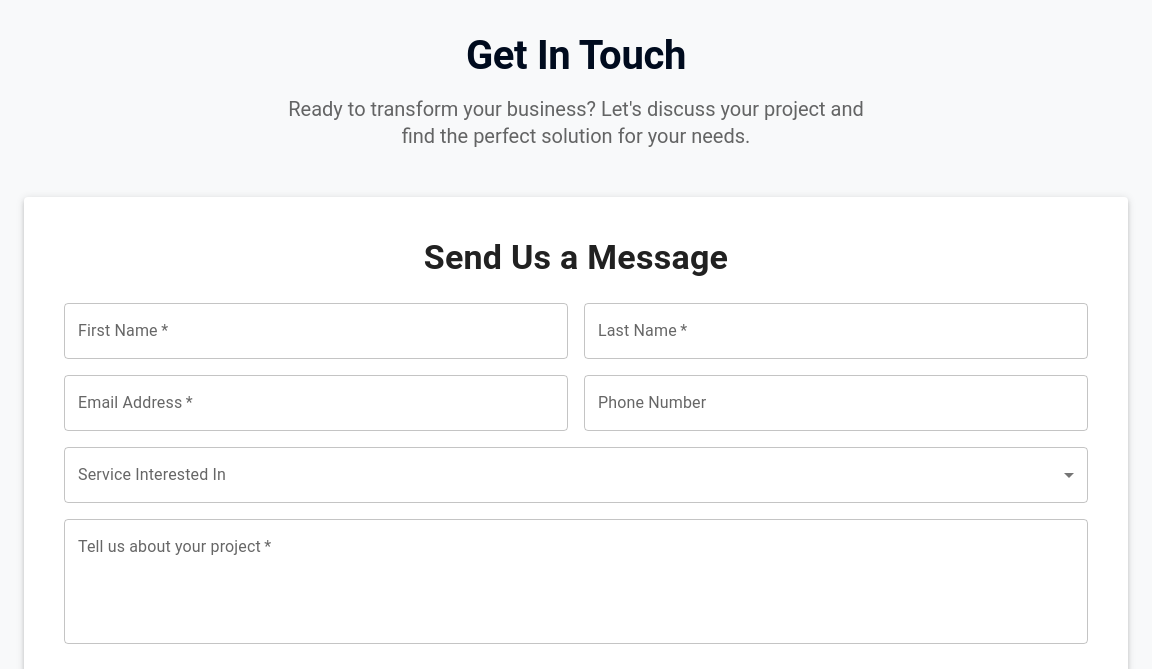
GetInTouchForm › submits successfully and shows success snackbar
This screenshot has width=1152, height=669.
In the field labelled "First Name *": (316, 331) x1=64 y1=303 x2=568 y2=359, type "John"
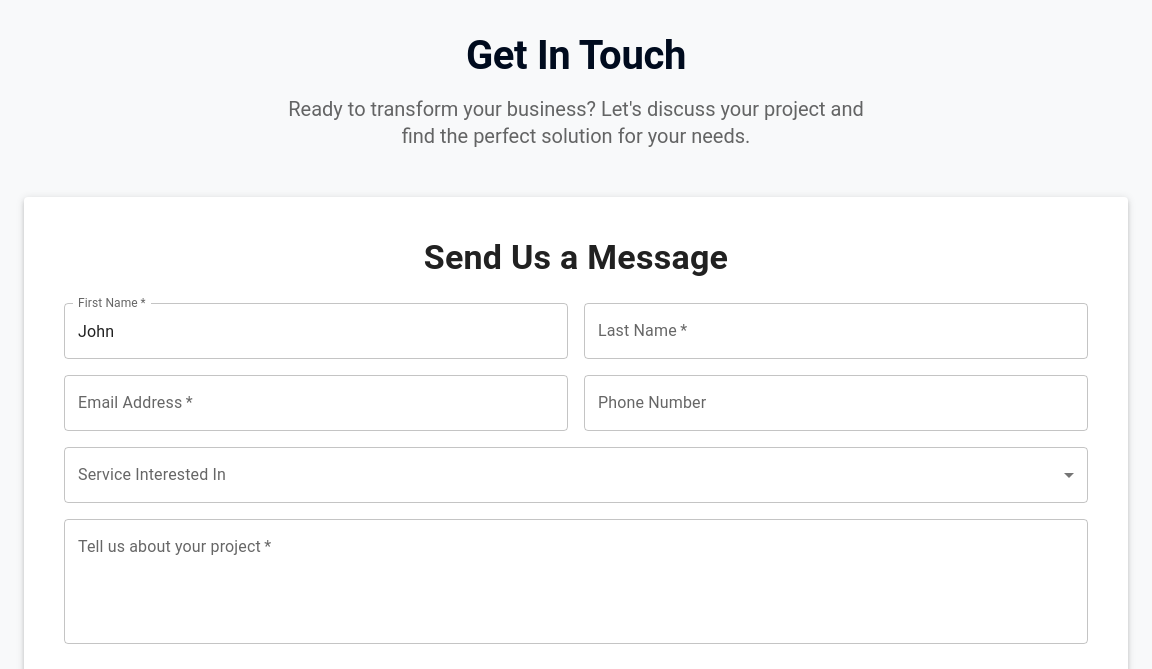
In the field labelled "Last Name *": (836, 331) x1=584 y1=303 x2=1088 y2=359, type "Doe"
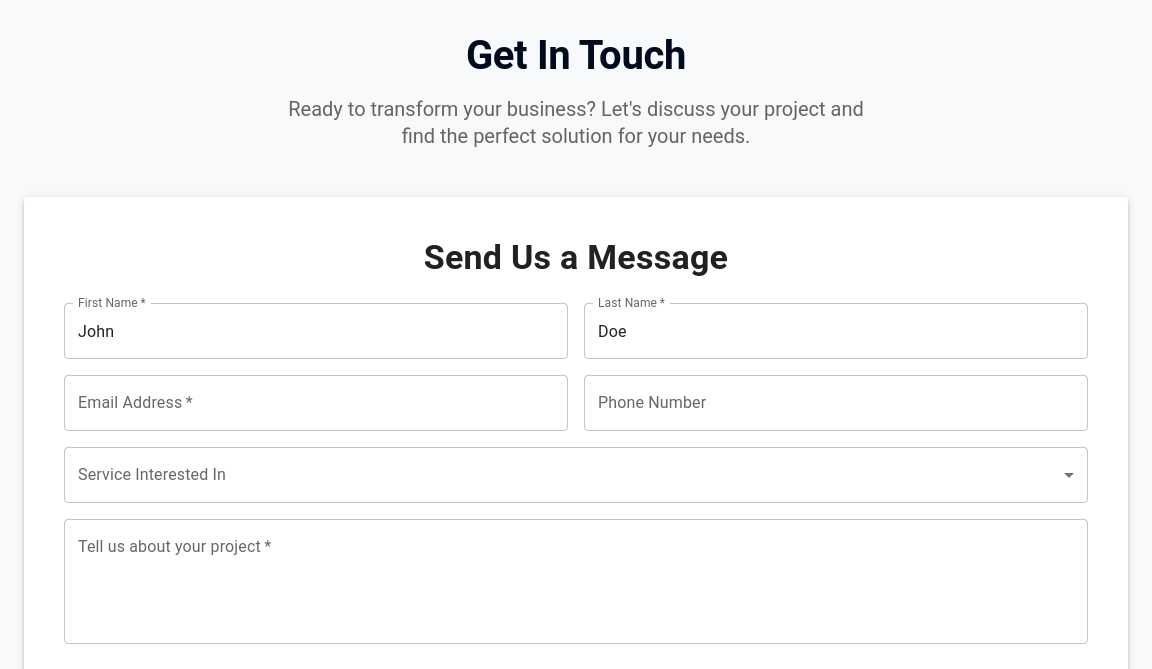
In the field labelled "Email Address *": (316, 403) x1=64 y1=375 x2=568 y2=431, type "test@example.com"
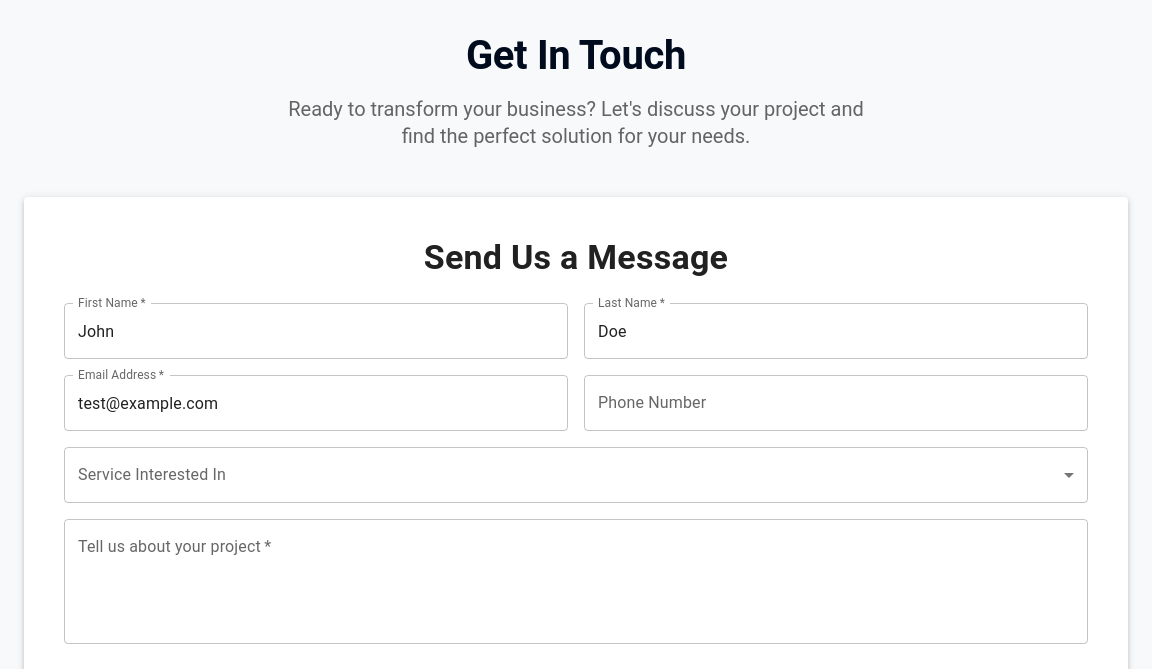
In the text box labelled "Tell us about your project *": (576, 582) x1=78 y1=536 x2=1074 y2=628, type "Hello"
(page scrolled)
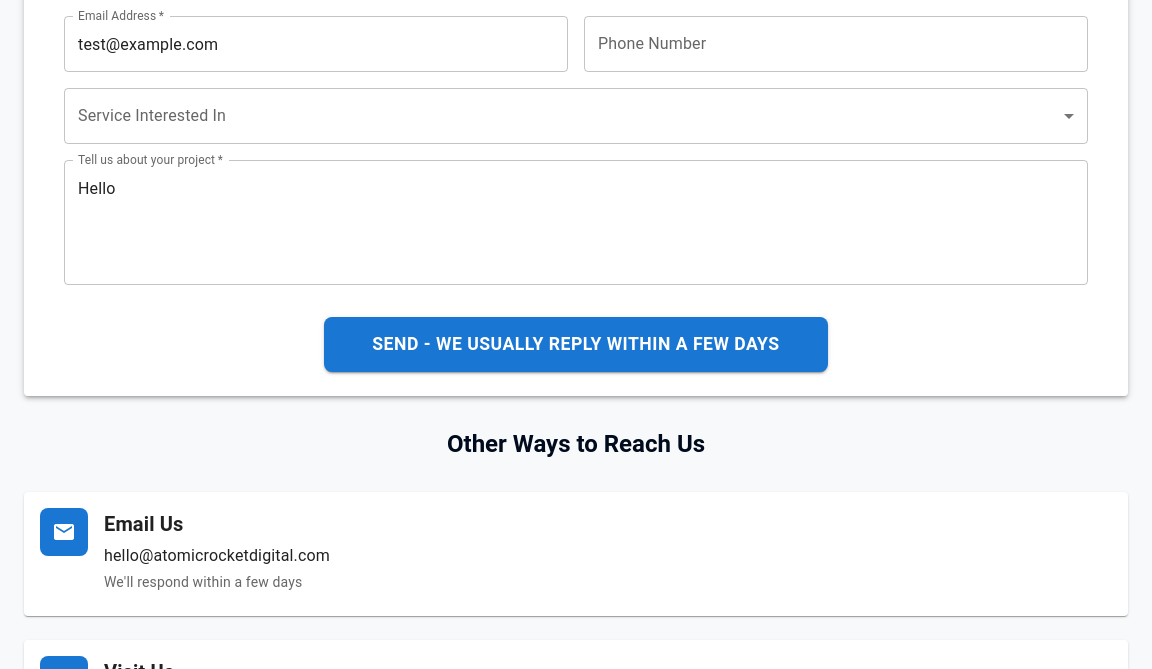
Click the button "Send - we usually reply within a few days": (576, 345) x1=324 y1=317 x2=828 y2=372
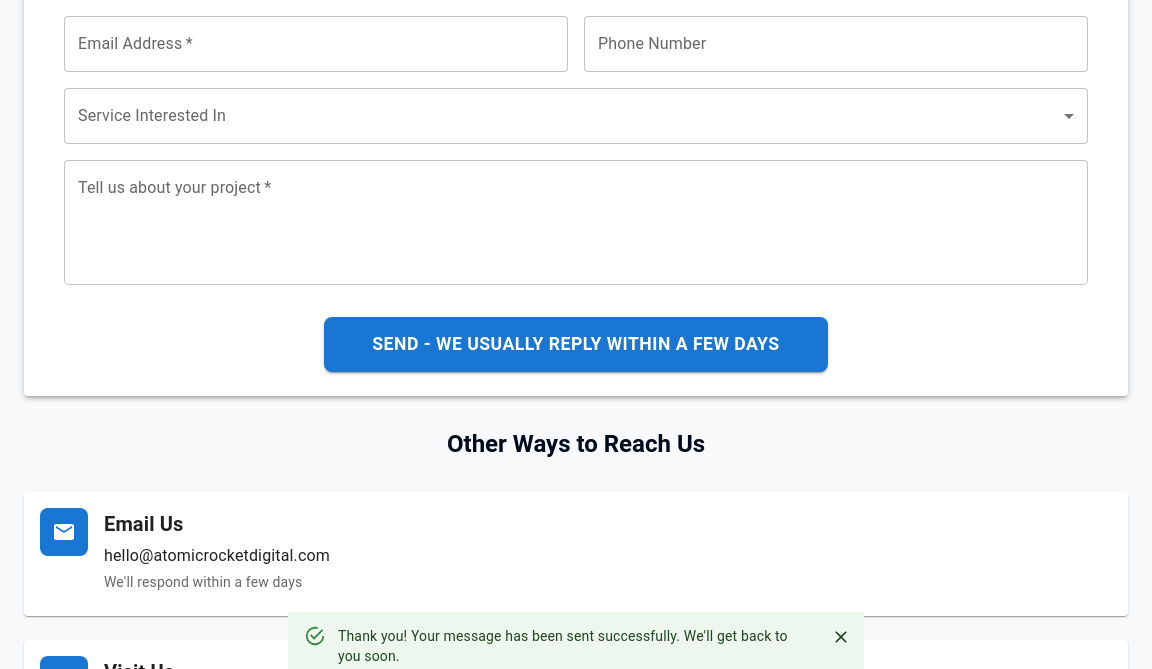
Result: the text "Thank you! Your message has been sent successfully" is shown at x1=338 y1=628 x2=788 y2=664
